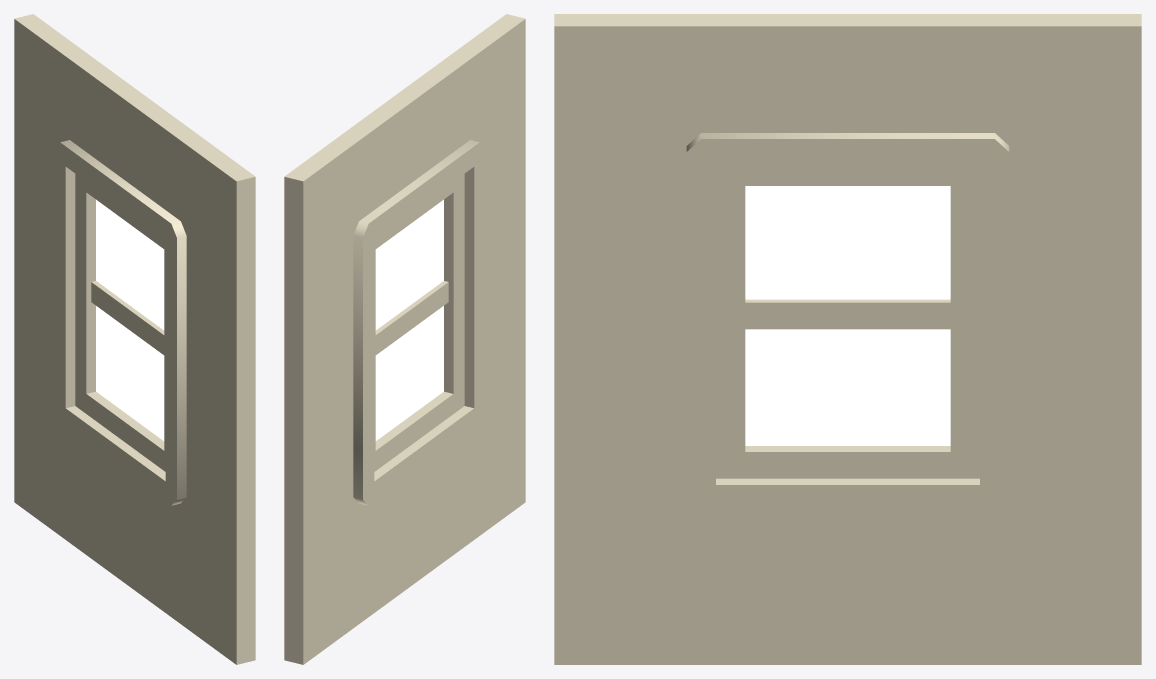
File: Wall.fbx
3 renders of one model, left to right at view 1: azimuth 30°, elevation 25°; view 2: azimuth 150°, elevation 25°; view 3: azimuth 270°, elevation 25°, orthographic. The views are drawn at different scales.
Parts seen in each view (by area): view 1: Wall_wall-window-square-detailed, Wall_(%ignore); view 2: Wall_wall-window-square-detailed, Wall_(%ignore); view 3: Wall_wall-window-square-detailed, Wall_(%ignore).
Part boxes in pixels (box(x1,y1,x2,y2)): Wall_wall-window-square-detailed: box(14, 14, 255, 664); Wall_(%ignore): box(96, 199, 164, 440); Wall_wall-window-square-detailed: box(284, 14, 525, 664); Wall_(%ignore): box(375, 199, 443, 440); Wall_wall-window-square-detailed: box(554, 14, 1141, 664); Wall_(%ignore): box(745, 186, 950, 445).
Bounding box in the file's own units: 21.67 × 260 × 217.
